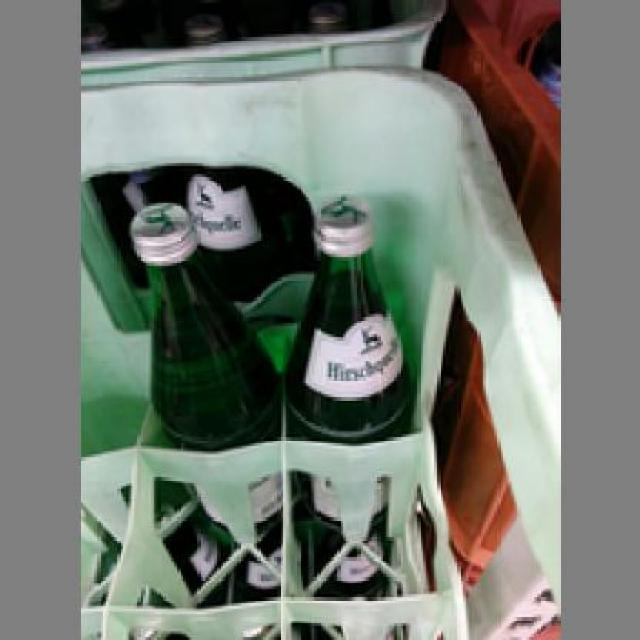Water: (120, 191, 289, 520), (280, 187, 417, 584)
